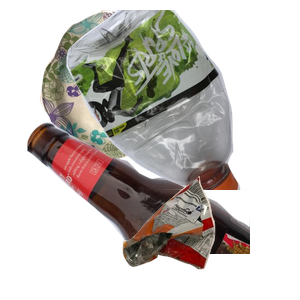glass: (25, 120, 265, 300)
paper: (37, 10, 219, 167)
plastic: (64, 10, 300, 190)
trash: (120, 174, 300, 300)
